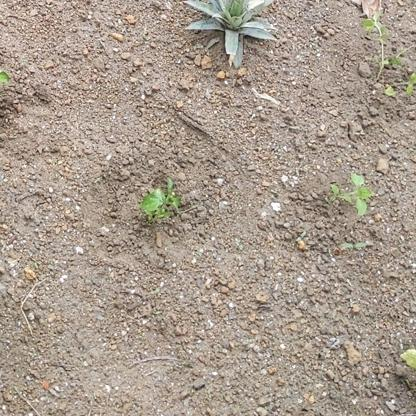pineapple: (177, 1, 280, 68)
weed: (357, 13, 416, 98), (140, 179, 193, 223), (335, 172, 372, 218)
